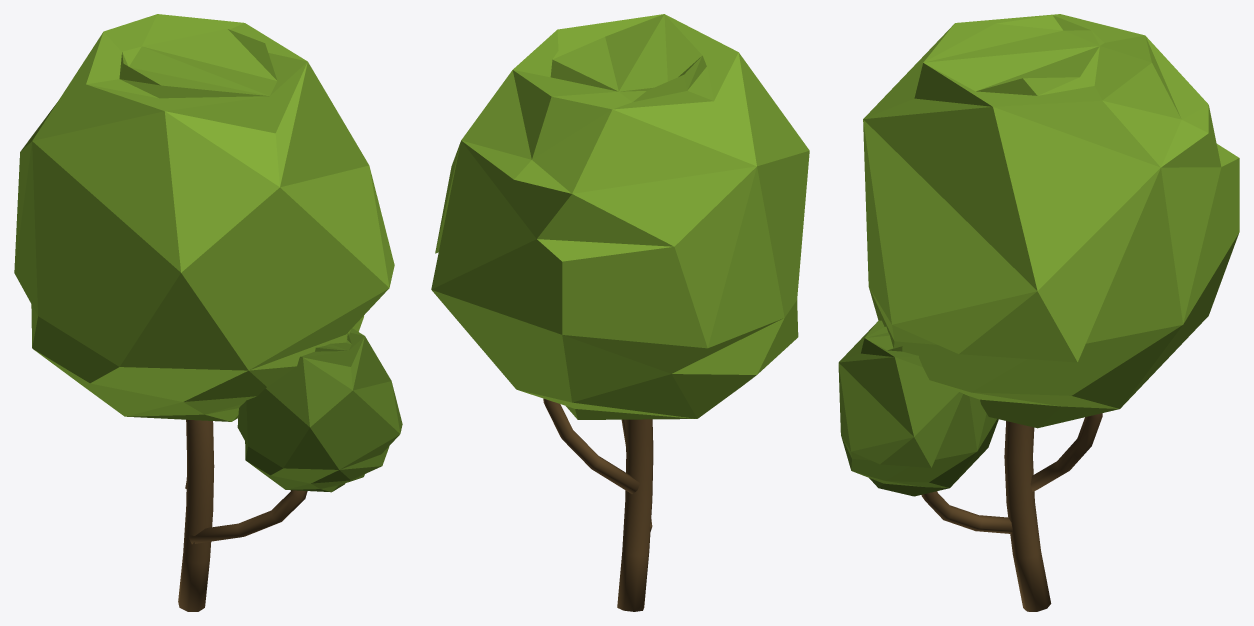
File: tree01.FBX
3 views of the same model, side by side, from view 1: azimuth 30°, elevation 25°; view 2: azimuth 150°, elevation 25°; view 3: azimuth 270°, elevation 25° (orthographic).
Parts seen in each view (by area): view 1: tree01; view 2: tree01; view 3: tree01.
Part boxes in pixels (box(x1,y1,x2,y2)): tree01: box(14, 14, 402, 611); tree01: box(431, 14, 809, 611); tree01: box(838, 14, 1239, 611).
Size of the model in its own units: 140 by 223 by 144.
